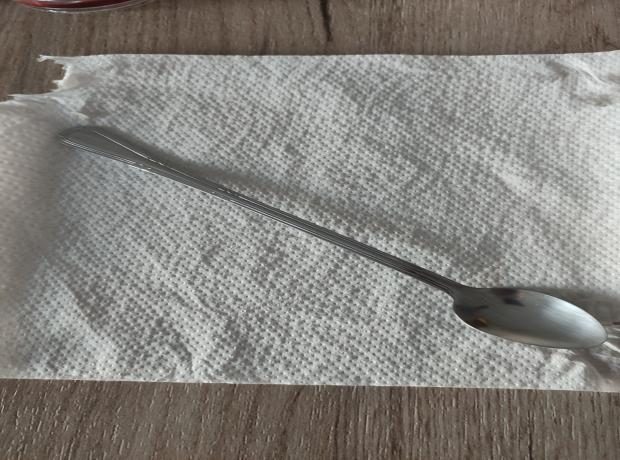metal: (55, 125, 608, 349)
